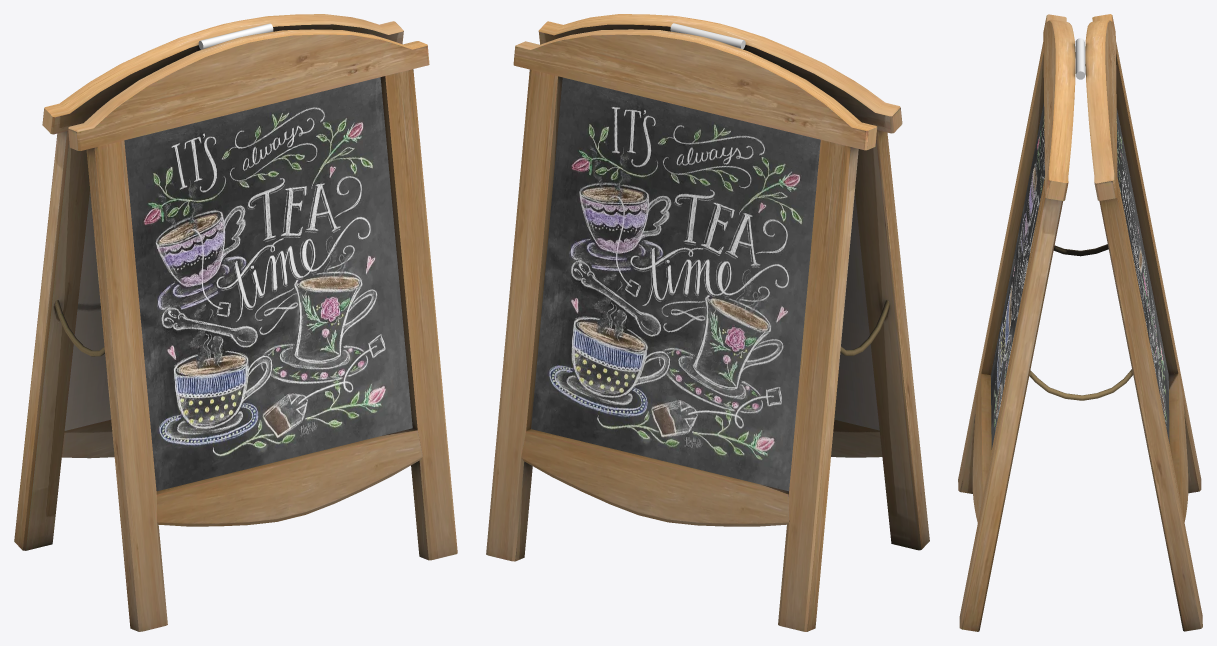
File: Billboard.glb
3 views of the same model, side by side, from view 1: azimuth 30°, elevation 25°; view 2: azimuth 150°, elevation 25°; view 3: azimuth 270°, elevation 25° (orthographic). The views are drawn at different scales.
Visible parts, largest first — view 1: Material2-material-material, Material1-material-material, Material0-material-material, Material3-material-material, Material4-material-material, Material7-material-material; view 2: Material2-material-material, Material1-material-material, Material0-material-material, Material3-material-material, Material8-material-material, Material7-material-material; view 3: Material1-material-material, Material0-material-material, Material2-material-material, Material6-material-material, Material7-material-material.
Boxes of the visible parts, x1,y1,x2,y2 form: Material2-material-material: [124, 77, 412, 491]; Material1-material-material: [14, 69, 457, 631]; Material0-material-material: [42, 14, 429, 526]; Material3-material-material: [26, 24, 402, 550]; Material4-material-material: [64, 190, 111, 430]; Material7-material-material: [198, 23, 273, 49]; Material2-material-material: [531, 77, 820, 491]; Material1-material-material: [486, 69, 929, 631]; Material0-material-material: [513, 14, 902, 526]; Material3-material-material: [539, 24, 918, 550]; Material8-material-material: [834, 192, 879, 430]; Material7-material-material: [670, 23, 745, 49]; Material1-material-material: [958, 42, 1202, 631]; Material0-material-material: [972, 14, 1188, 522]; Material2-material-material: [990, 103, 1169, 449]; Material6-material-material: [1029, 244, 1132, 400]; Material7-material-material: [1075, 38, 1085, 79].
Bounding box in the file's own units: 1.58 × 2.23 × 0.9839.
Materials: 8 (7 with a texture image).
